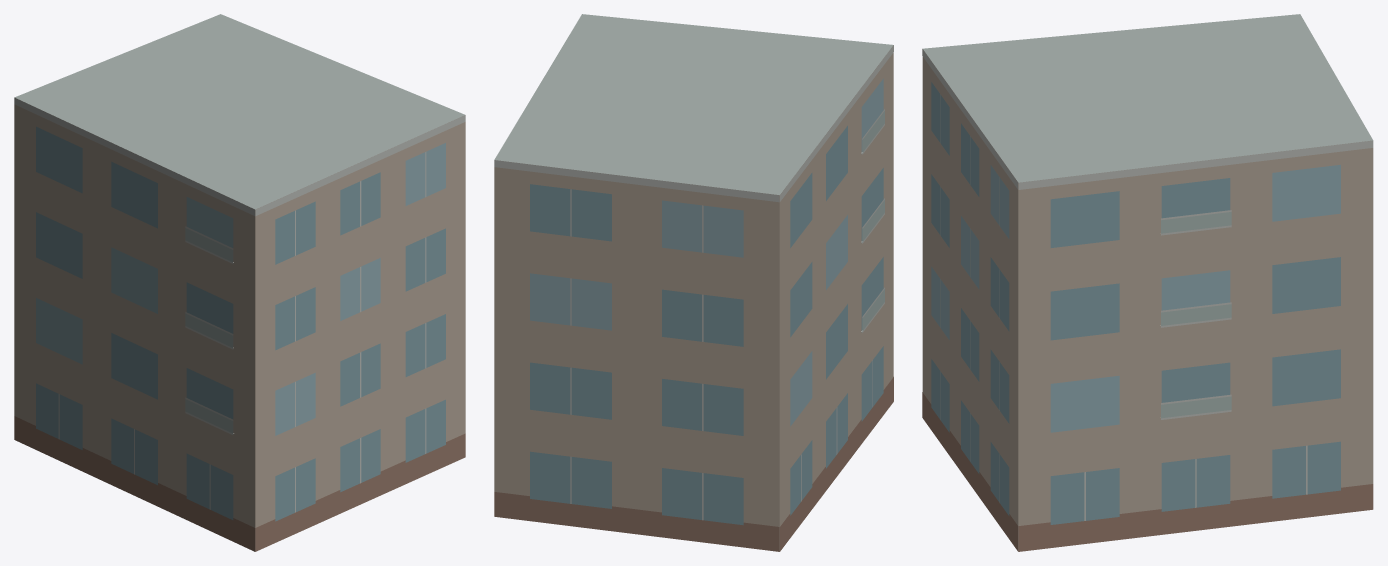
File: survey-upis-32778839.glb
The picture shows the model from 3 angles, left to right: view 1: azimuth 30°, elevation 25°; view 2: azimuth 150°, elevation 25°; view 3: azimuth 270°, elevation 25°; orthographic projection. The views are drawn at different scales.
Parts seen in each view (by area): view 1: survey-upis-32778839.tmp; view 2: survey-upis-32778839.tmp; view 3: survey-upis-32778839.tmp.
Boxes of the visible parts, x1,y1,x2,y2 form: survey-upis-32778839.tmp: (14,14,465,551); survey-upis-32778839.tmp: (494,14,893,551); survey-upis-32778839.tmp: (922,14,1373,551).
Bounding box in the file's own units: 11.96 × 12.2 × 13.51.
